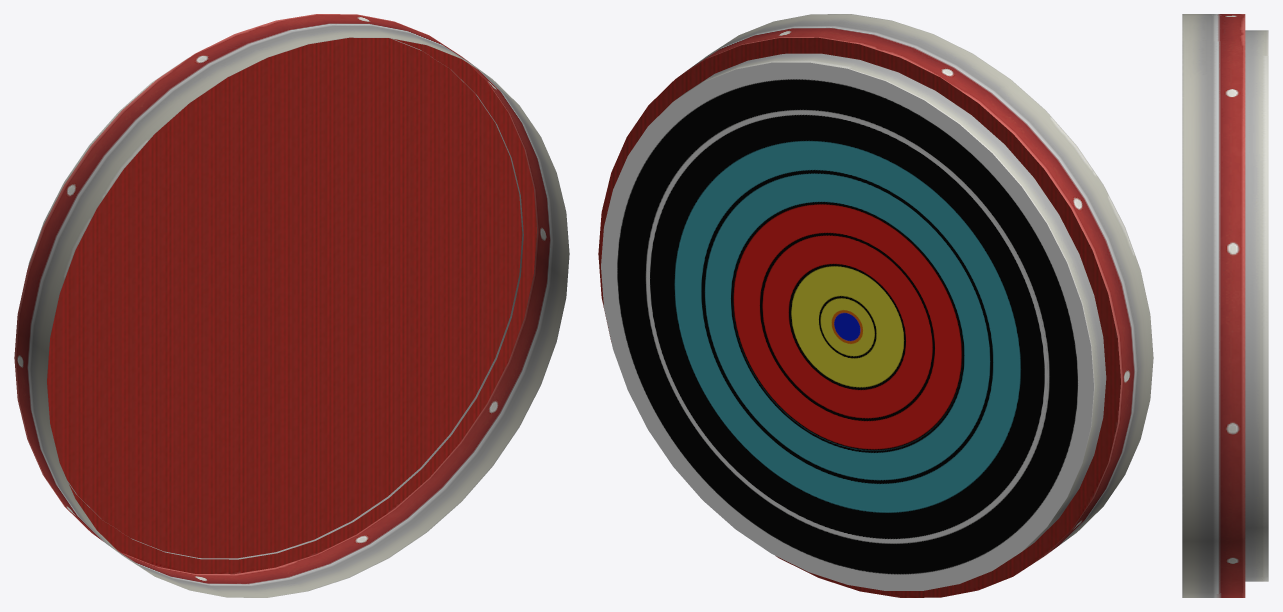
File: target.glb
The picture shows the model from 3 angles, left to right: view 1: azimuth 30°, elevation 25°; view 2: azimuth 150°, elevation 25°; view 3: azimuth 270°, elevation 25°; orthographic projection. The views are drawn at different scales.
Parts seen in each view (by area): view 1: Bia ban High Resize; view 2: Bia ban High Resize; view 3: Bia ban High Resize.
Part boxes in pixels (<box>): Bia ban High Resize: <box>14,14,569,597</box>; Bia ban High Resize: <box>598,14,1153,597</box>; Bia ban High Resize: <box>1182,14,1268,597</box>.
Bounding box in the file's own units: 1.67 × 1.67 × 0.2474.
Materials: 1 (1 with a texture image).
